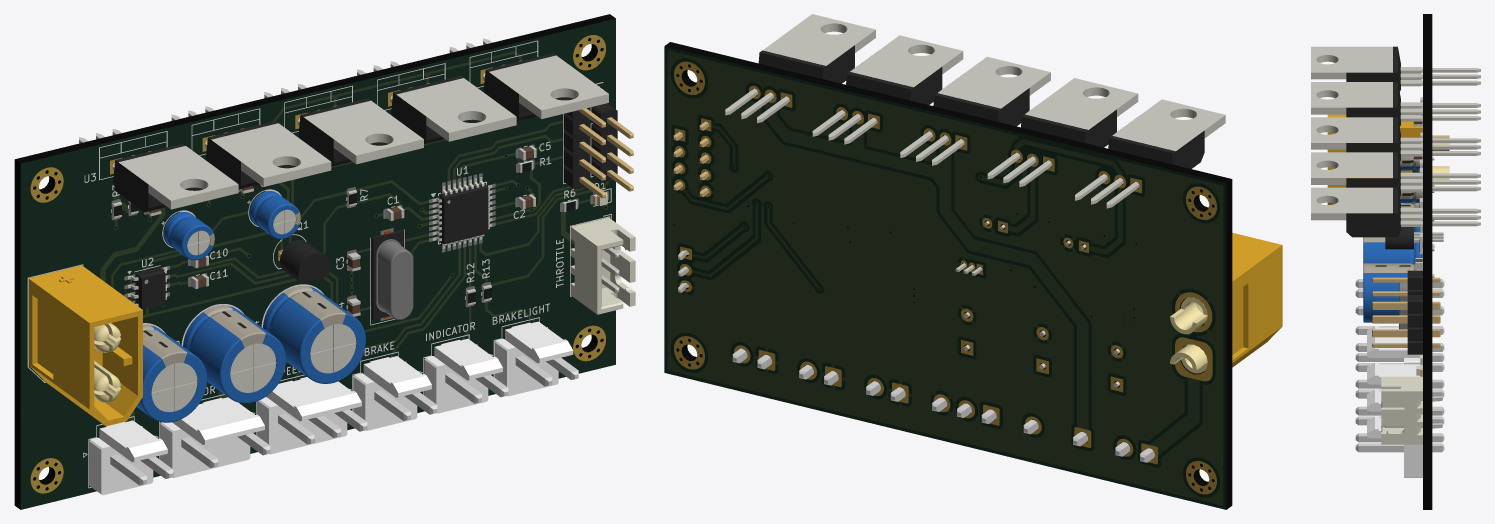
The model's file is e-bike-controller.glb.
3 views of the same model, side by side, from view 1: azimuth 30°, elevation 25°; view 2: azimuth 150°, elevation 25°; view 3: azimuth 270°, elevation 25° (orthographic). The views are drawn at different scales.
Size of the model in its own units: 90 by 50 by 28.53.
